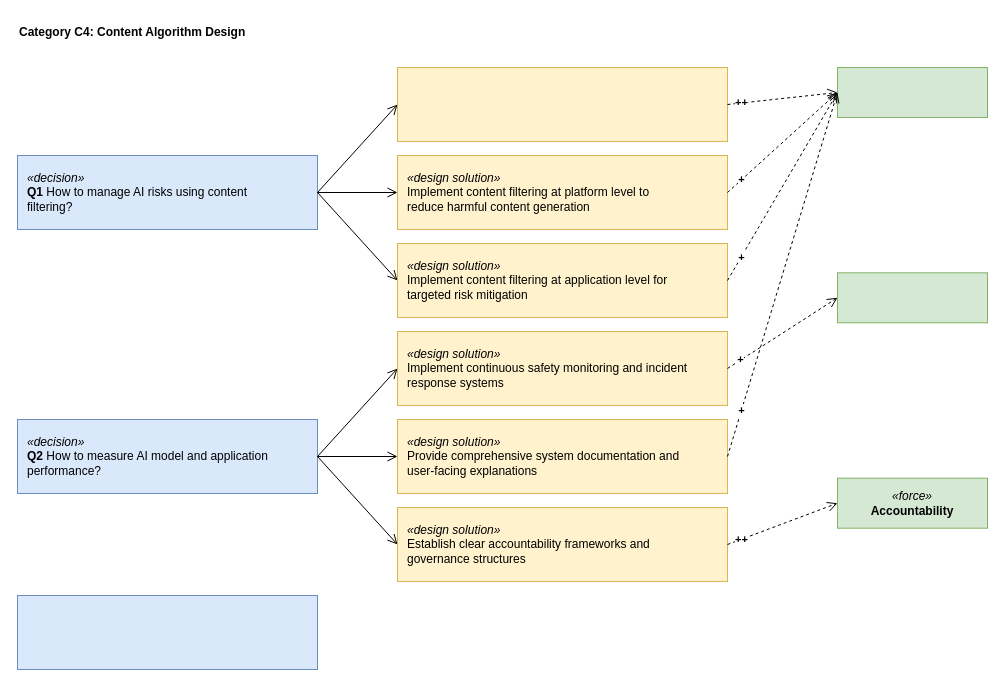
This 1005x687 diagram has some shape labels left out. The shapes that lost their labels are listed below. From the top down, each one's centre as x and y in pixels, then its label:
pixel 562 104: «design solution» Filter content to protect privacy and prevent data leakage
pixel 912 92: «force» Transparency
pixel 912 297: «force» Safety
pixel 167 632: «decision» Q3 How to assess AI system quality?
